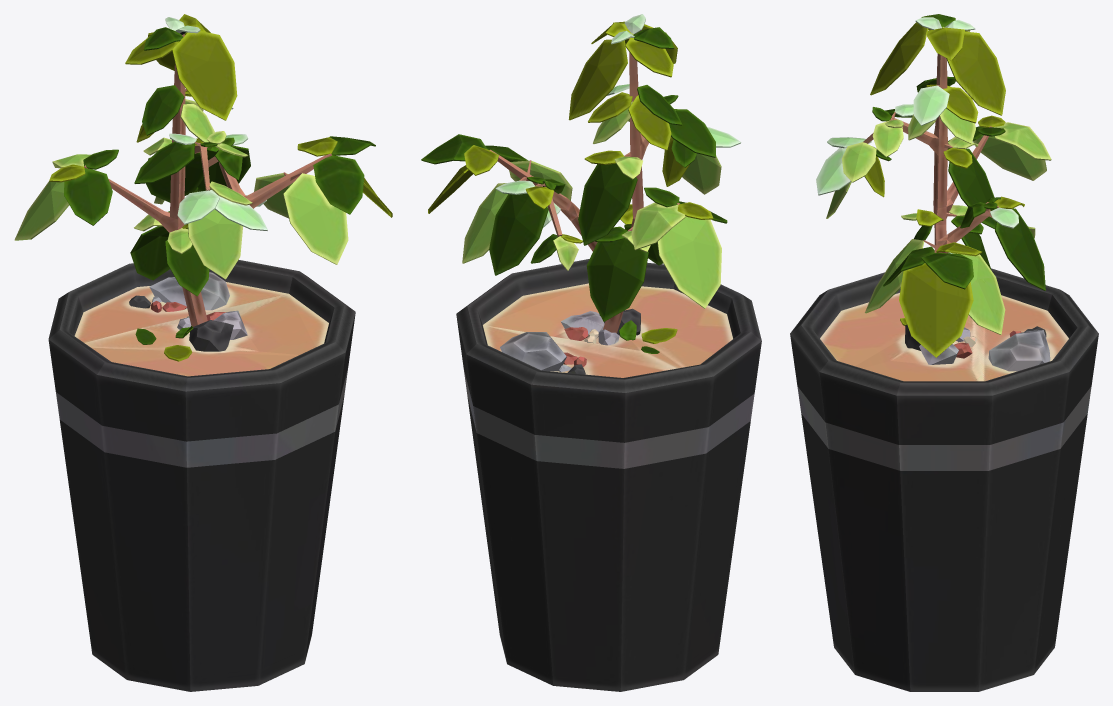
Rendered from vase.glb.
3 views of the same model, side by side, from view 1: azimuth 30°, elevation 25°; view 2: azimuth 150°, elevation 25°; view 3: azimuth 270°, elevation 25° (orthographic).
Visible parts, largest first — view 1: Vase; view 2: Vase; view 3: Vase.
Part boxes in pixels (x1=…): Vase: x1=14, y1=14, x2=392, y2=691; Vase: x1=421, y1=14, x2=761, y2=691; Vase: x1=790, y1=14, x2=1098, y2=691.
Bounding box in the file's own units: 0.6362 × 1.16 × 0.5269.
1 material, 1 textured.
